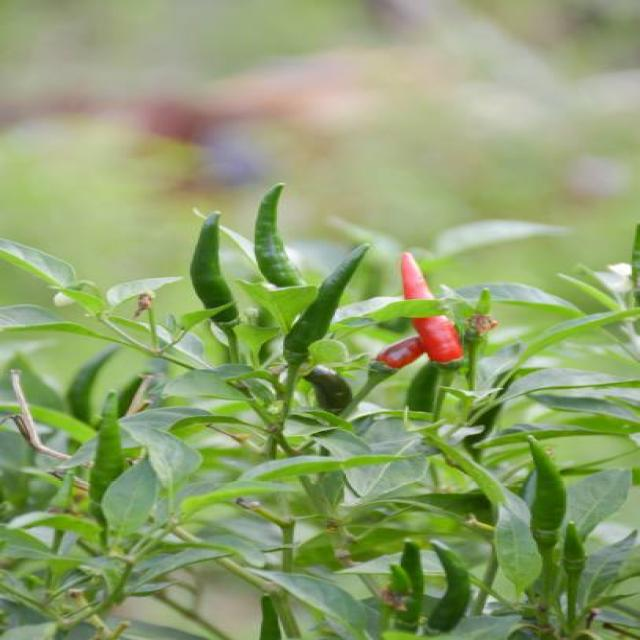Ripe: (400, 251, 472, 367), (376, 335, 425, 369)
Unripe: (286, 245, 367, 365), (190, 212, 239, 362), (254, 184, 303, 287), (530, 436, 566, 554), (427, 541, 470, 632)
